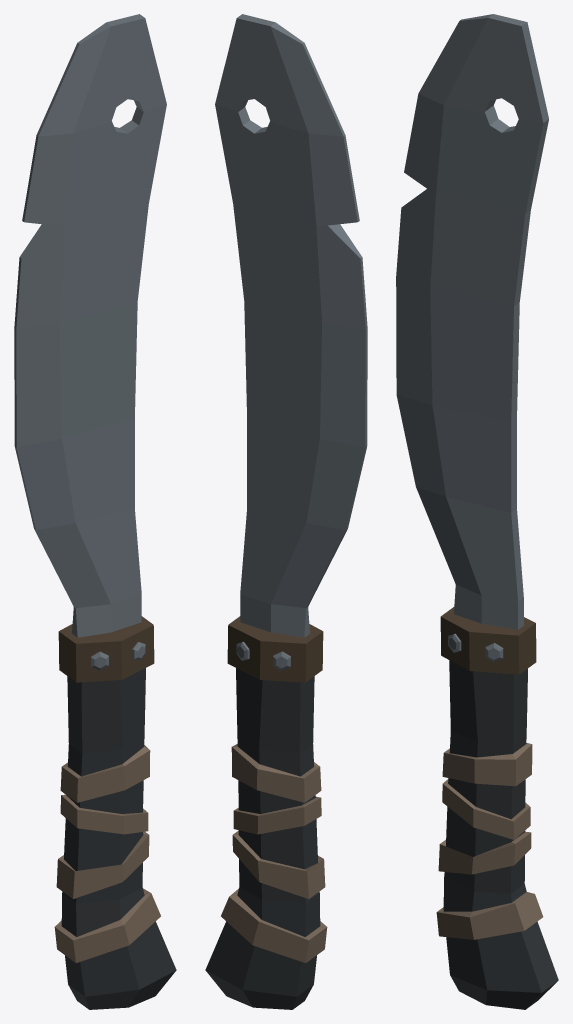
File: SmallCleaver.glb
3 views of the same model, side by side, from view 1: azimuth 30°, elevation 25°; view 2: azimuth 150°, elevation 25°; view 3: azimuth 330°, elevation 25° (orthographic).
Visible parts, largest first — view 1: SmallCleaver; view 2: SmallCleaver; view 3: SmallCleaver.
Part boxes in pixels (x1,y1,x2,y2): SmallCleaver: [14, 14, 176, 1009]; SmallCleaver: [205, 14, 367, 1009]; SmallCleaver: [396, 14, 558, 1009].
Size of the model in its own units: 0.1172 by 0.7162 by 0.0498.
1 material, 1 textured.
